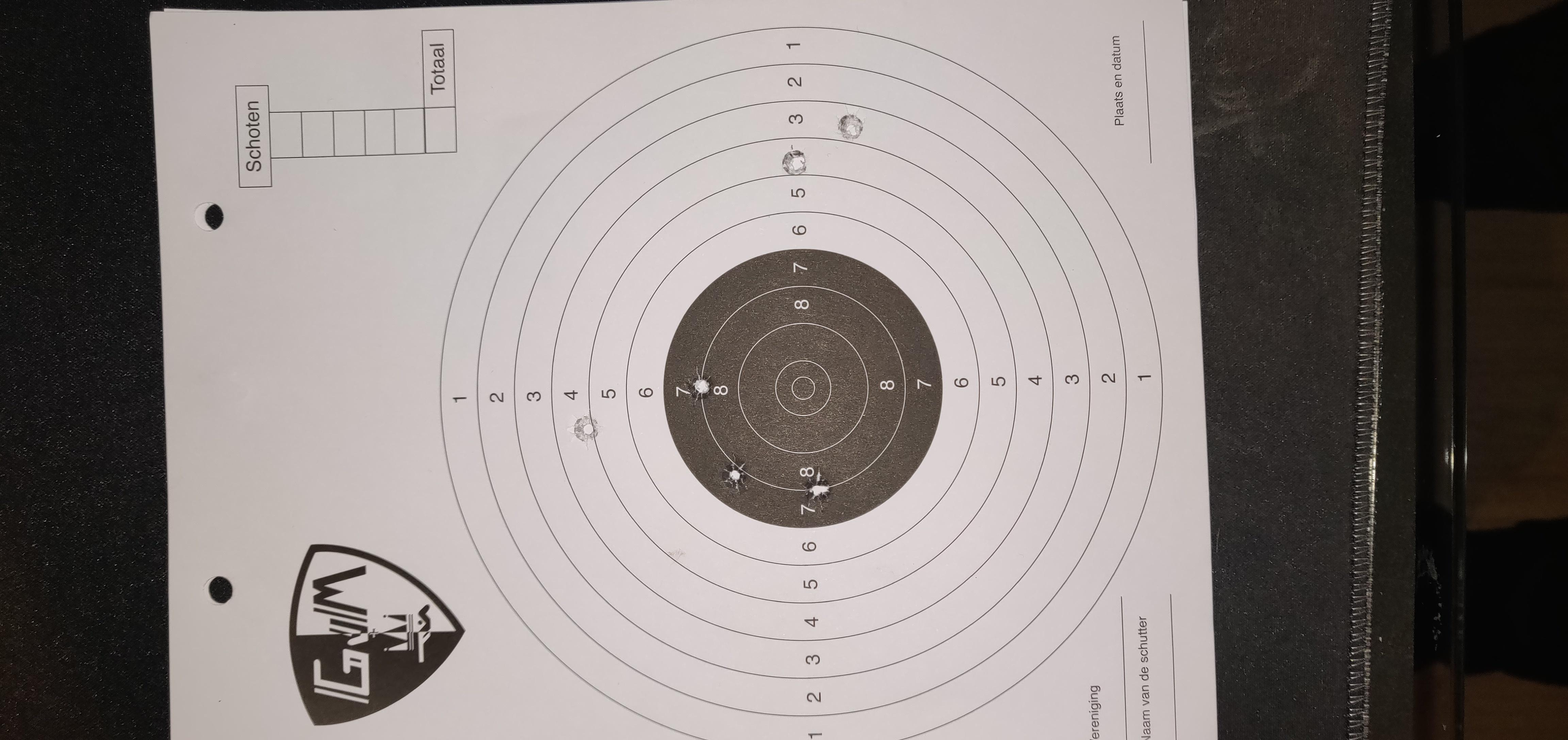hole: (616, 268, 700, 284), (490, 378, 576, 393), (521, 341, 606, 353), (713, 324, 791, 337), (1269, 395, 1342, 408), (1197, 369, 1251, 381)
